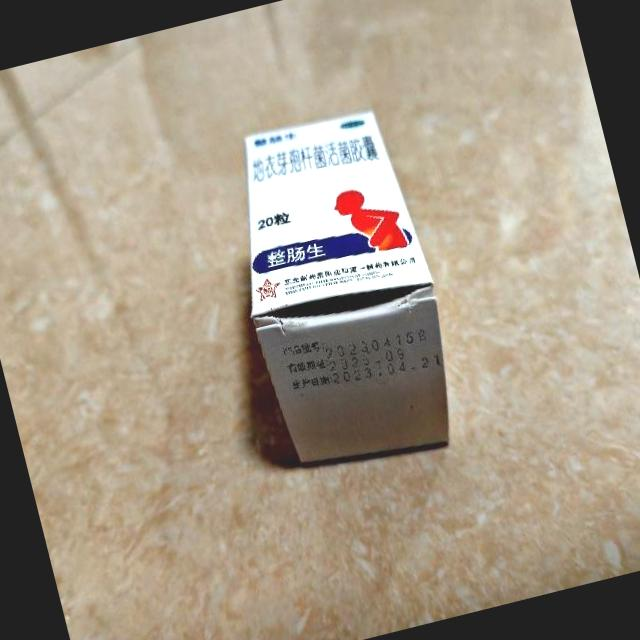box: (209, 99, 472, 481)
